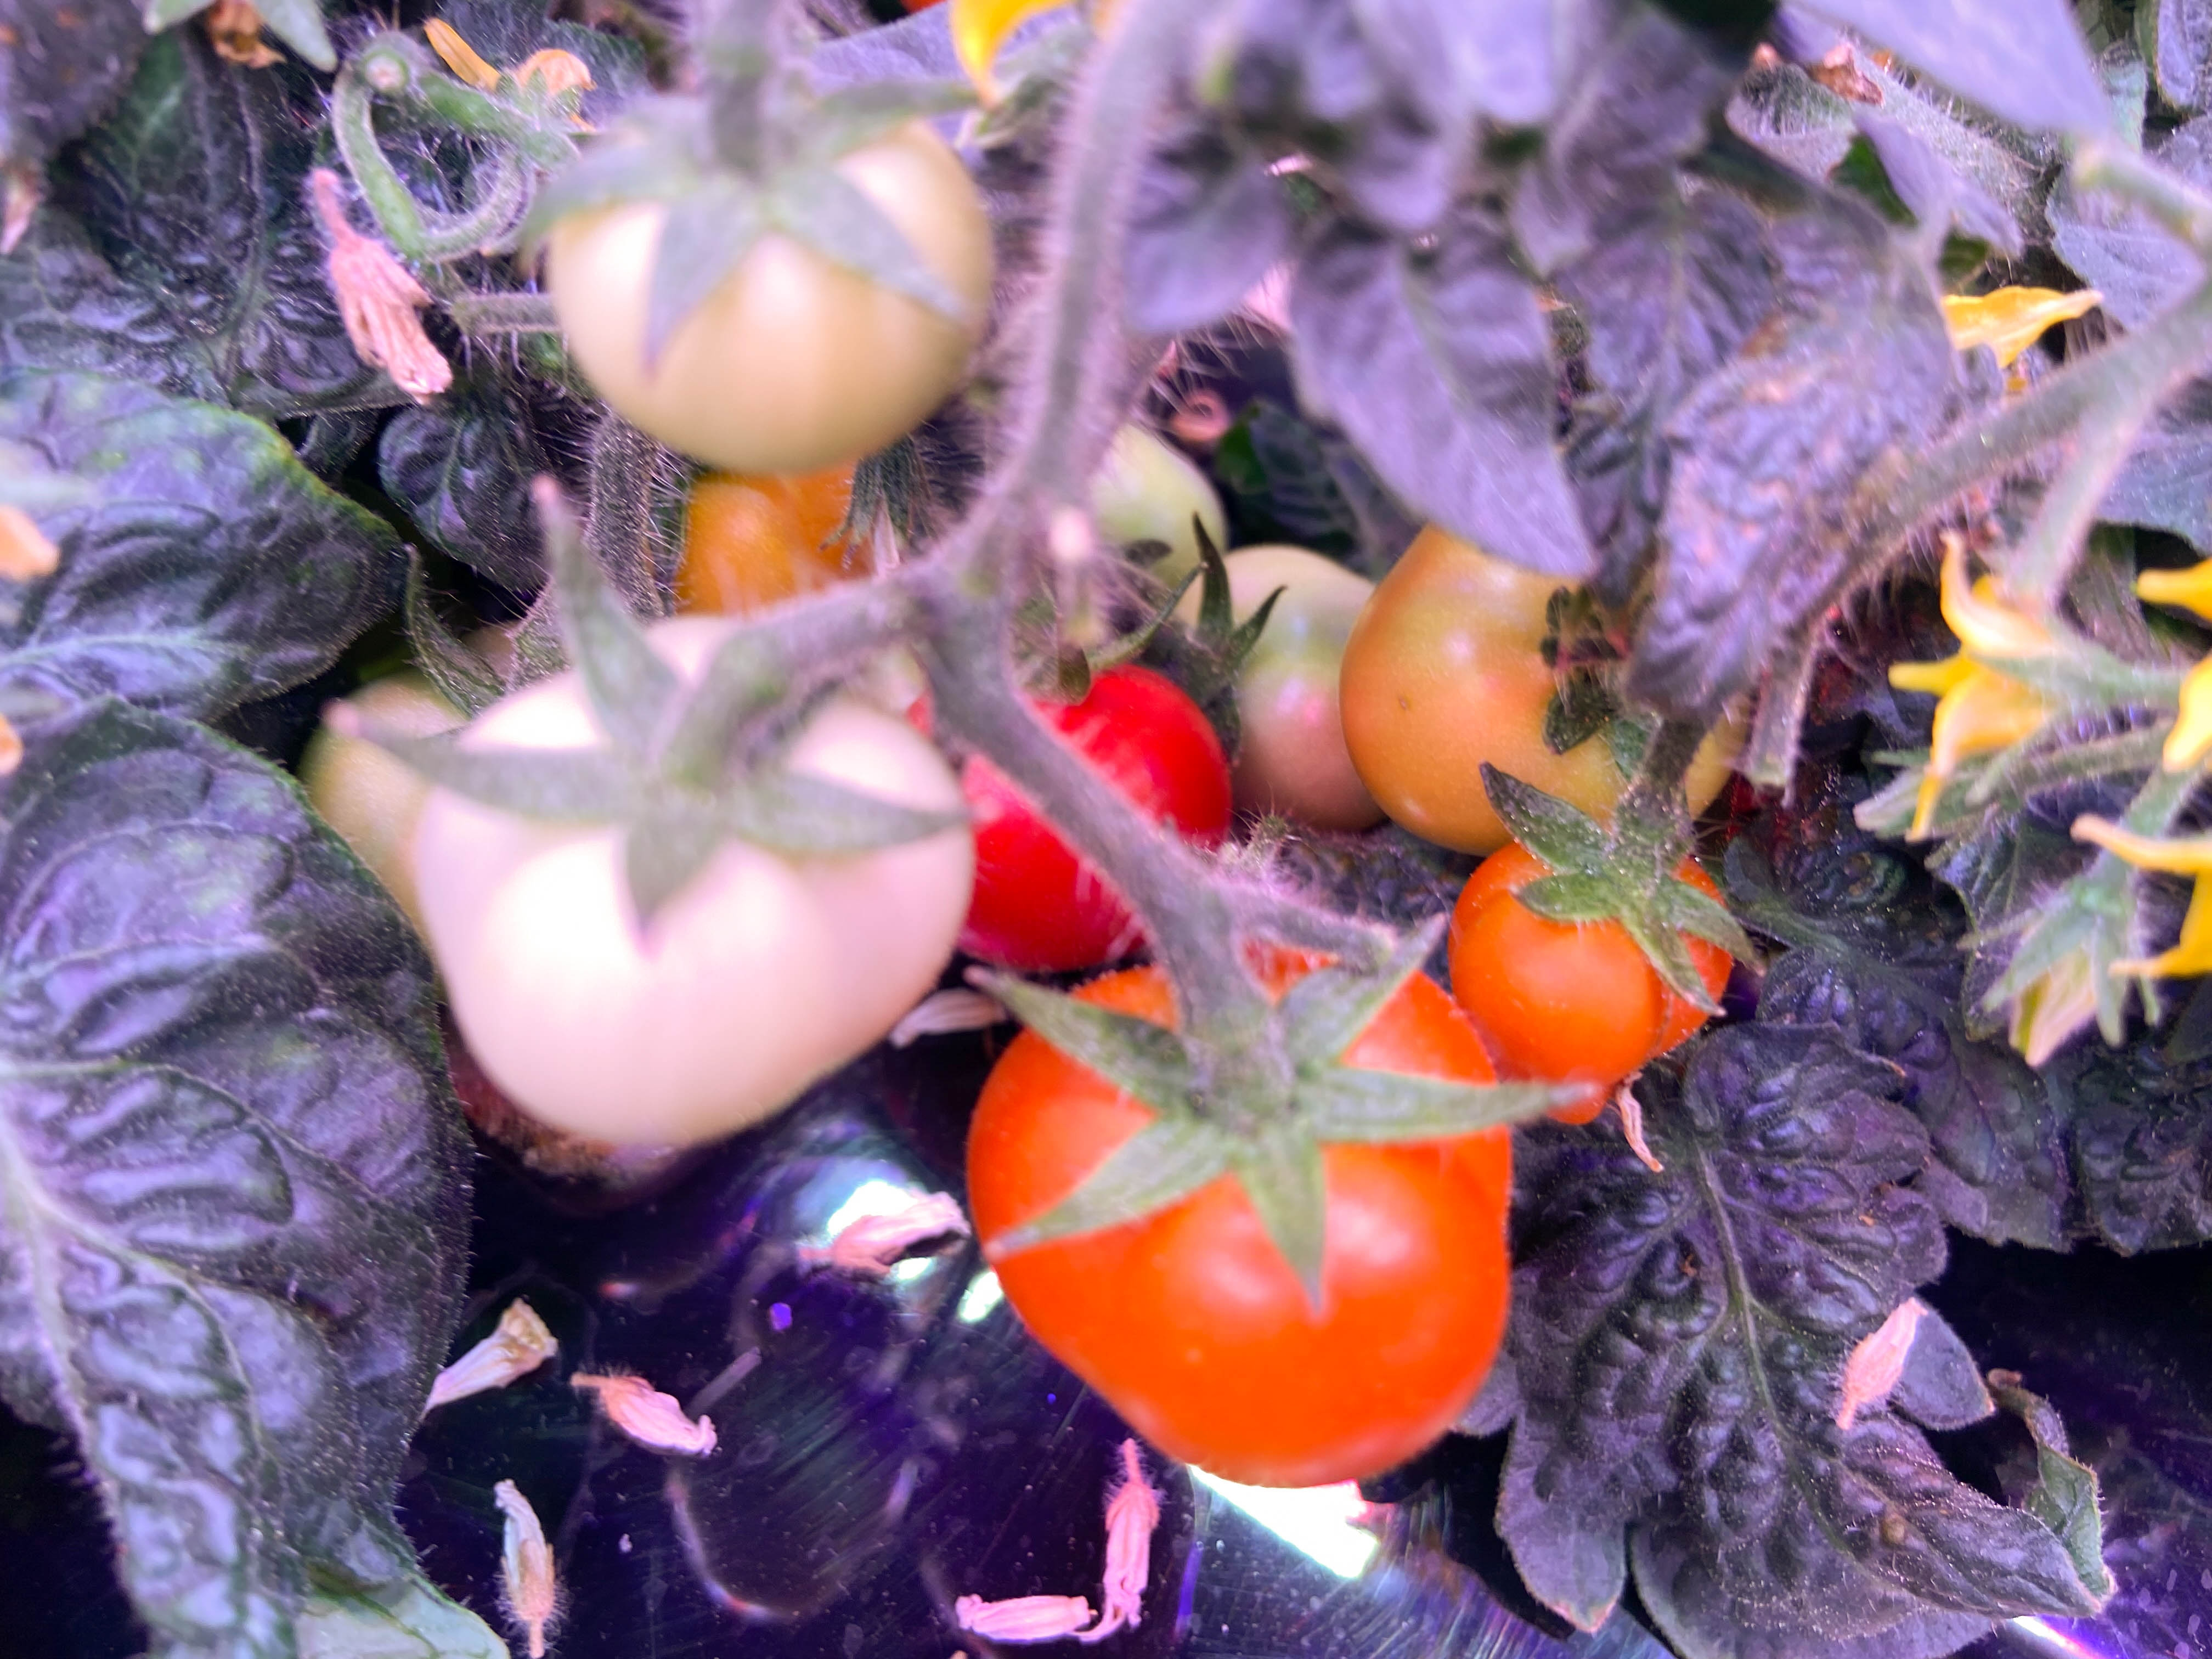green: (416, 617, 979, 1161), (538, 89, 1000, 476), (1160, 538, 1400, 831), (293, 660, 486, 929), (1036, 422, 1231, 634)
red: (972, 924, 1521, 1500), (1341, 509, 1684, 852), (932, 643, 1230, 971), (1449, 826, 1733, 1093), (644, 460, 921, 622)
